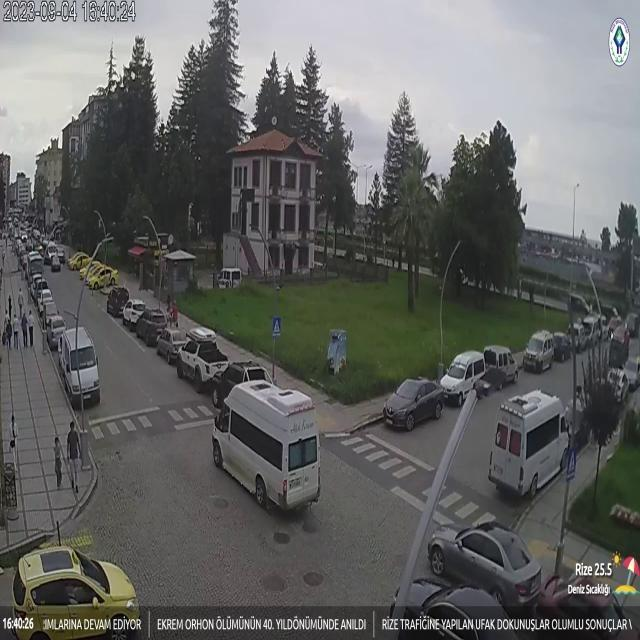Bus: (27, 249, 45, 285)
Car: (10, 545, 142, 640), (429, 523, 540, 613), (394, 579, 521, 640), (539, 573, 640, 639), (382, 376, 444, 432), (438, 350, 486, 407), (134, 308, 170, 348), (524, 330, 556, 374), (484, 346, 520, 384), (156, 327, 189, 364), (122, 298, 148, 330), (44, 316, 68, 348), (88, 267, 120, 291), (106, 287, 130, 318), (619, 355, 640, 390), (553, 332, 572, 363), (610, 326, 631, 350), (69, 254, 93, 272), (37, 290, 55, 312)
Truck: (178, 327, 230, 393), (211, 360, 274, 410)
Van: (212, 380, 321, 514), (488, 389, 574, 499), (60, 328, 102, 410), (218, 268, 244, 290)
